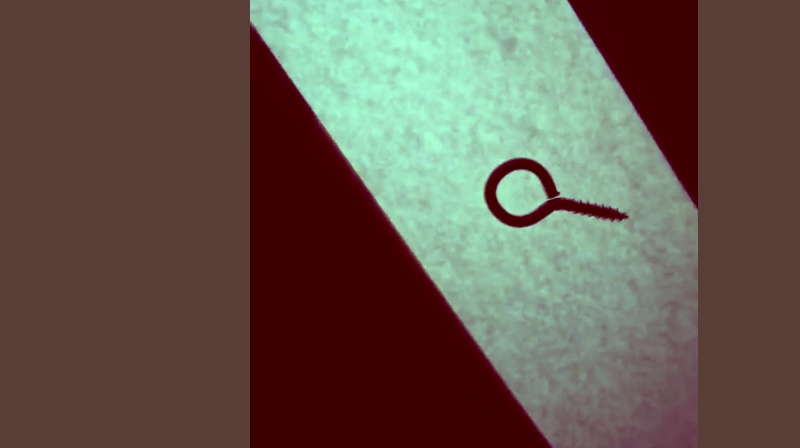O001: (481, 151, 631, 229)
